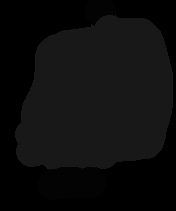fp: (12, 12, 173, 172)
